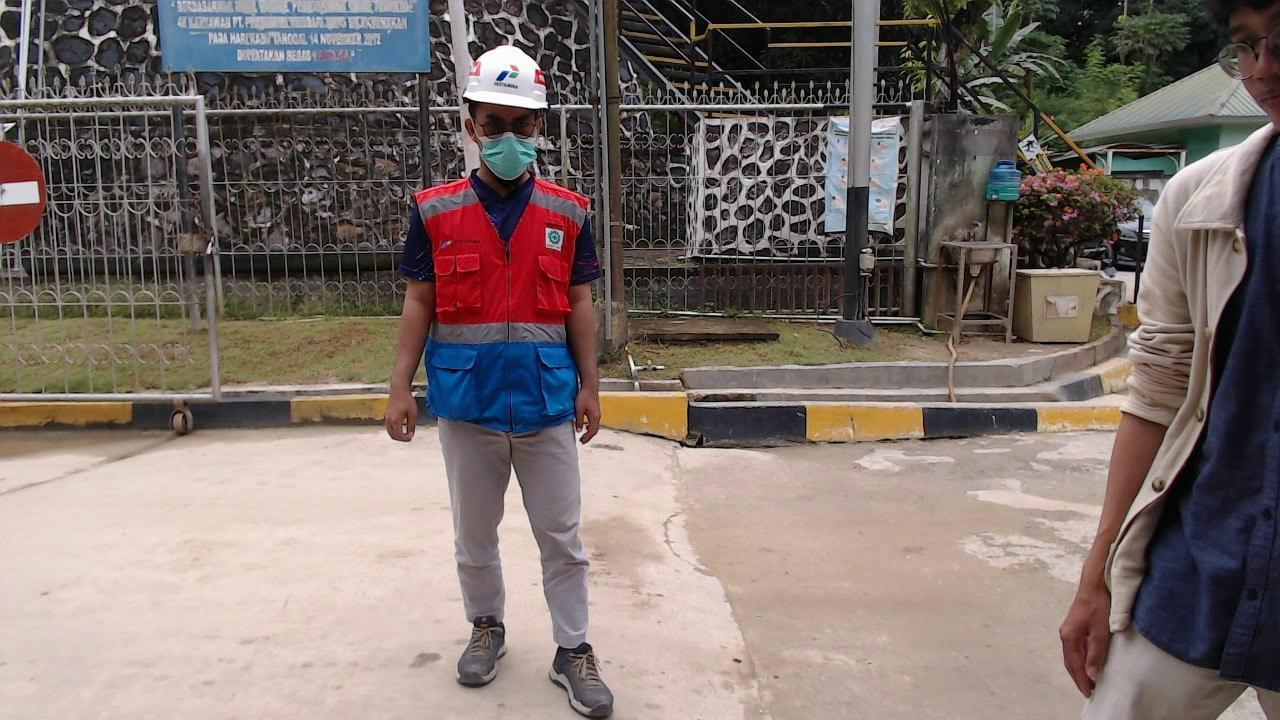helmet: (451, 38, 557, 117)
